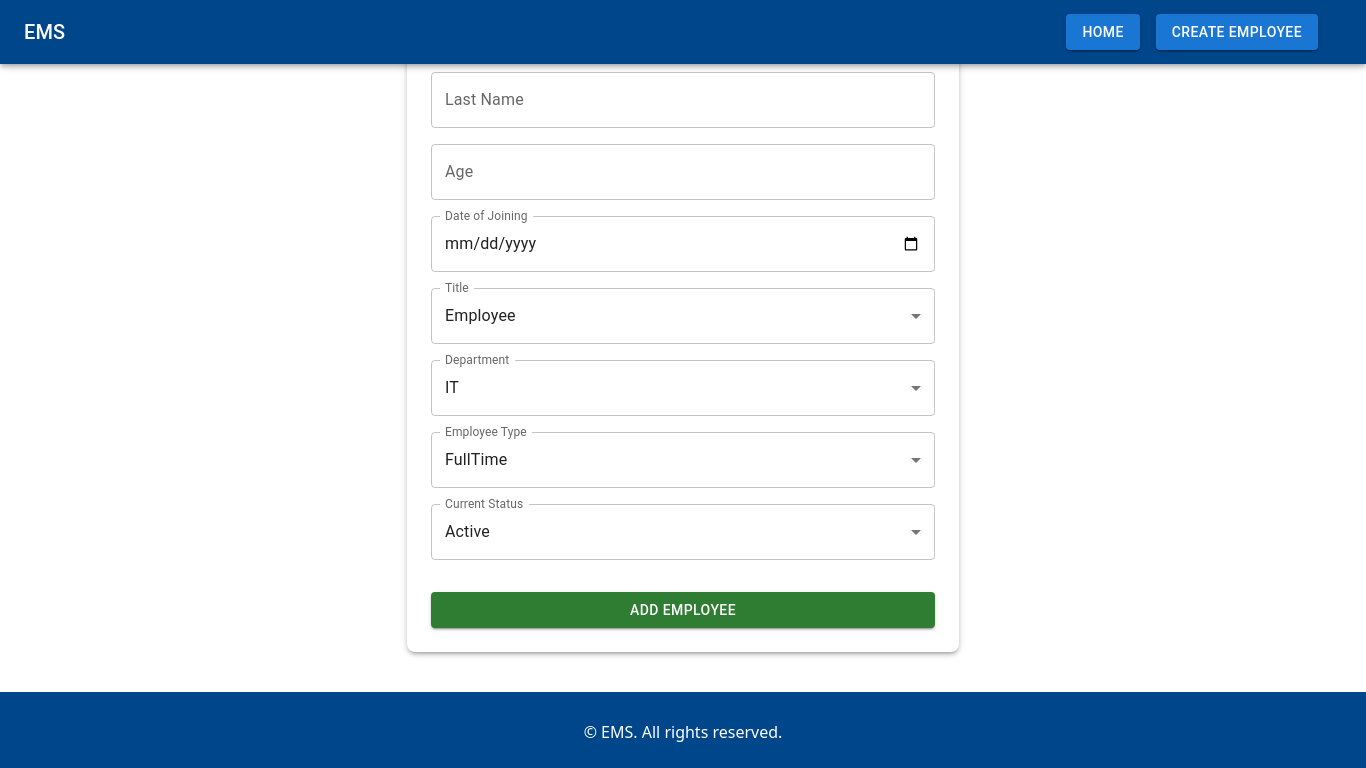
Test: EmployeeCreate Component › renders form and validates required fields
The image size is (1366, 768).
(page scrolled)
Click the button "Add Employee" at (683, 610), box x1=431 y1=592 x2=935 y2=628
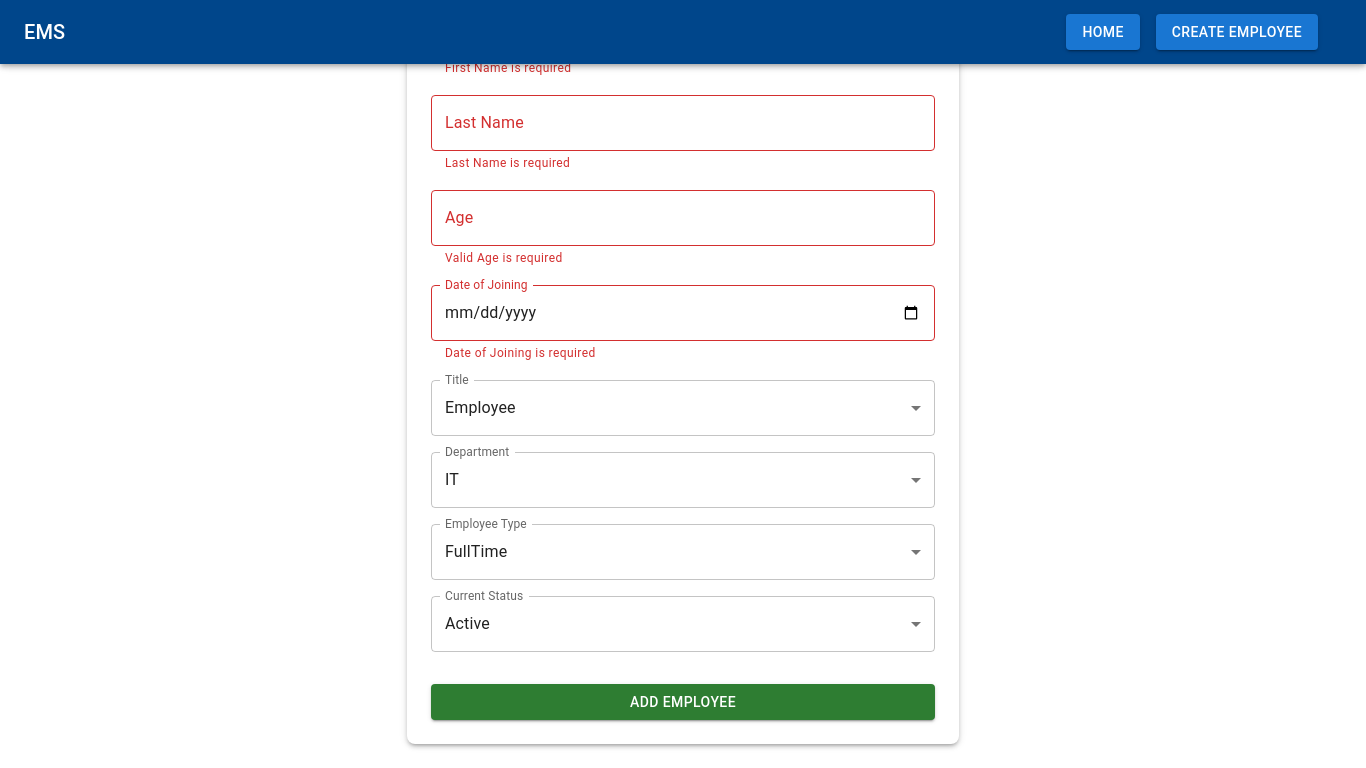
Check: the text "First Name is required" is shown, box x1=445 y1=61 x2=571 y2=75
Check: the text "Last Name is required" is shown, box x1=445 y1=156 x2=570 y2=170
Check: the text "Valid Age is required" is shown, box x1=445 y1=251 x2=563 y2=265
